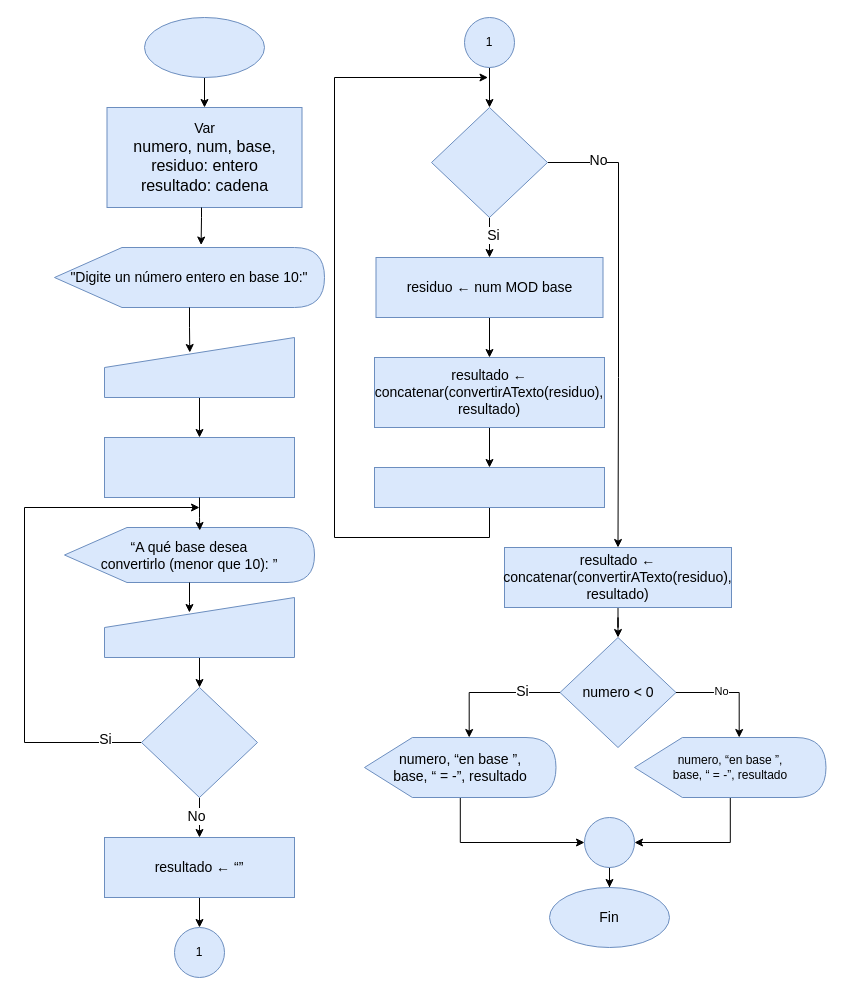
Image size: 844x995. Some labels were removed from this diagram. Here are the shapes that lost their labels. From the top down, the centre of each, then its label:
At pixel 204 47: "Inicio".
At pixel 489 162: "num > base".
At pixel 199 367: "numero".
At pixel 199 467: "num ← abs(numero)".
At pixel 489 487: "num ← num DIV base".
At pixel 199 627: "base".
At pixel 199 742: "base > 10".
